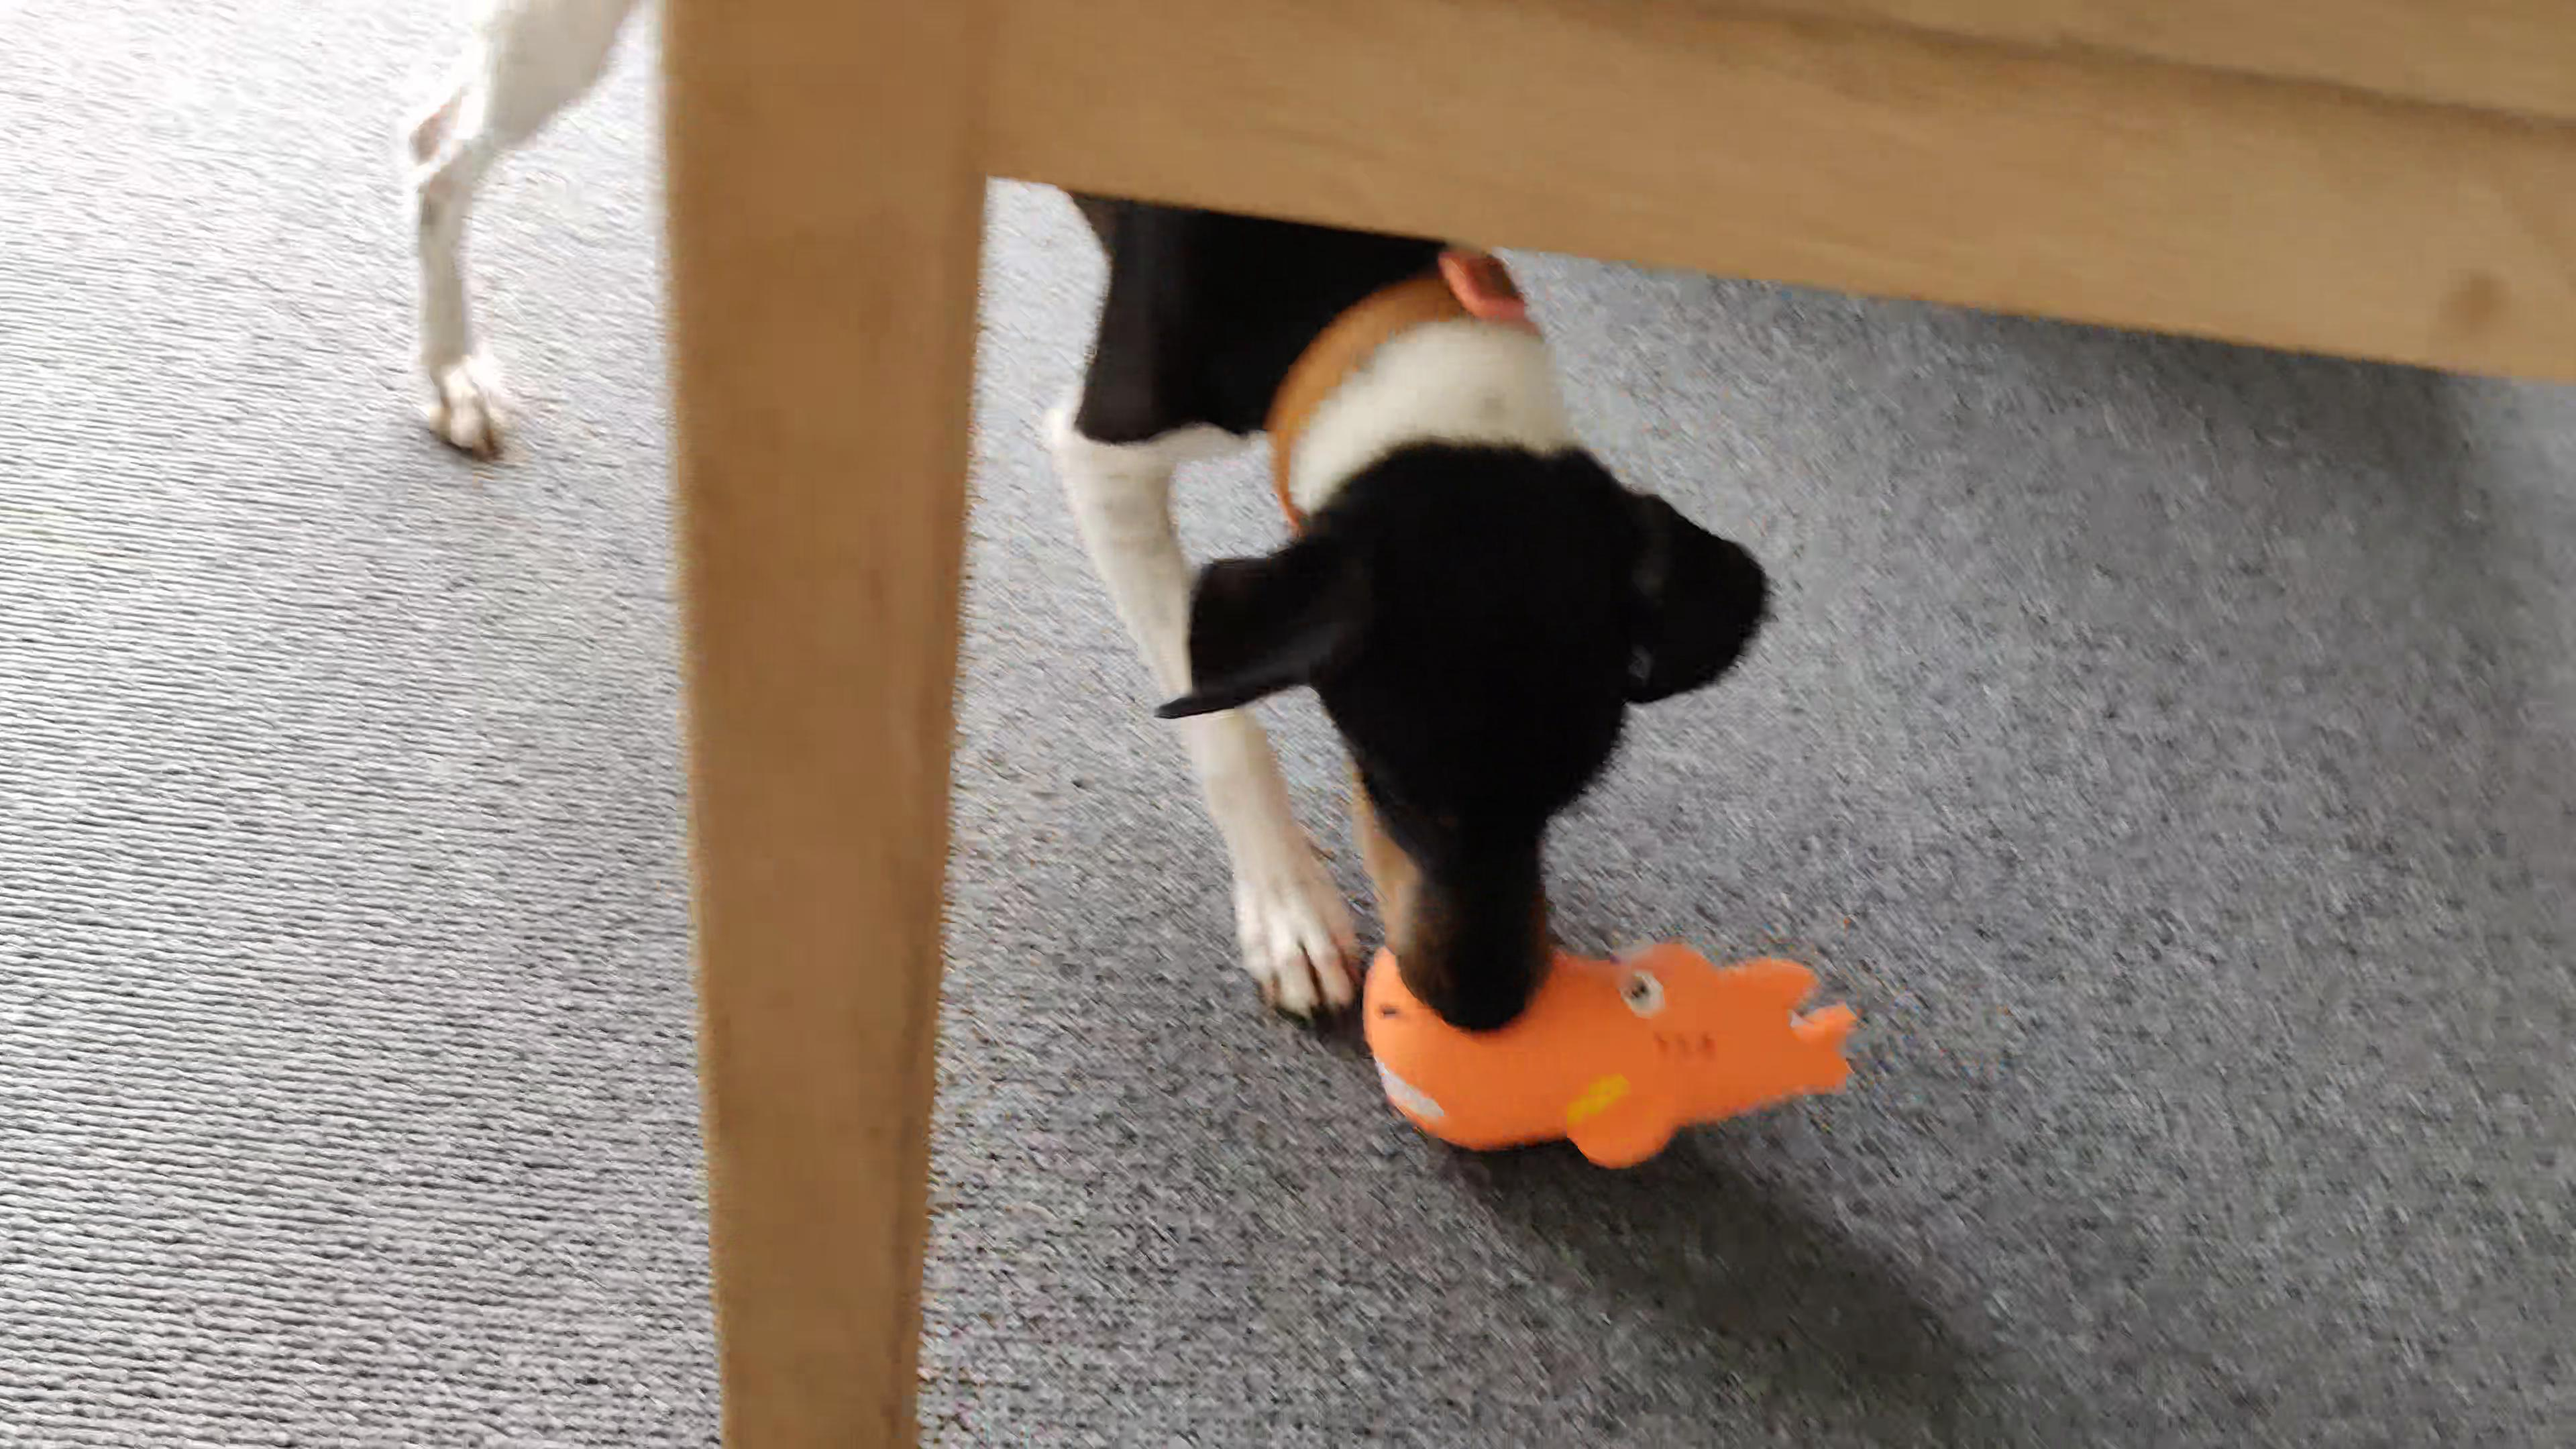Dog: (370, 0, 1805, 1065)
